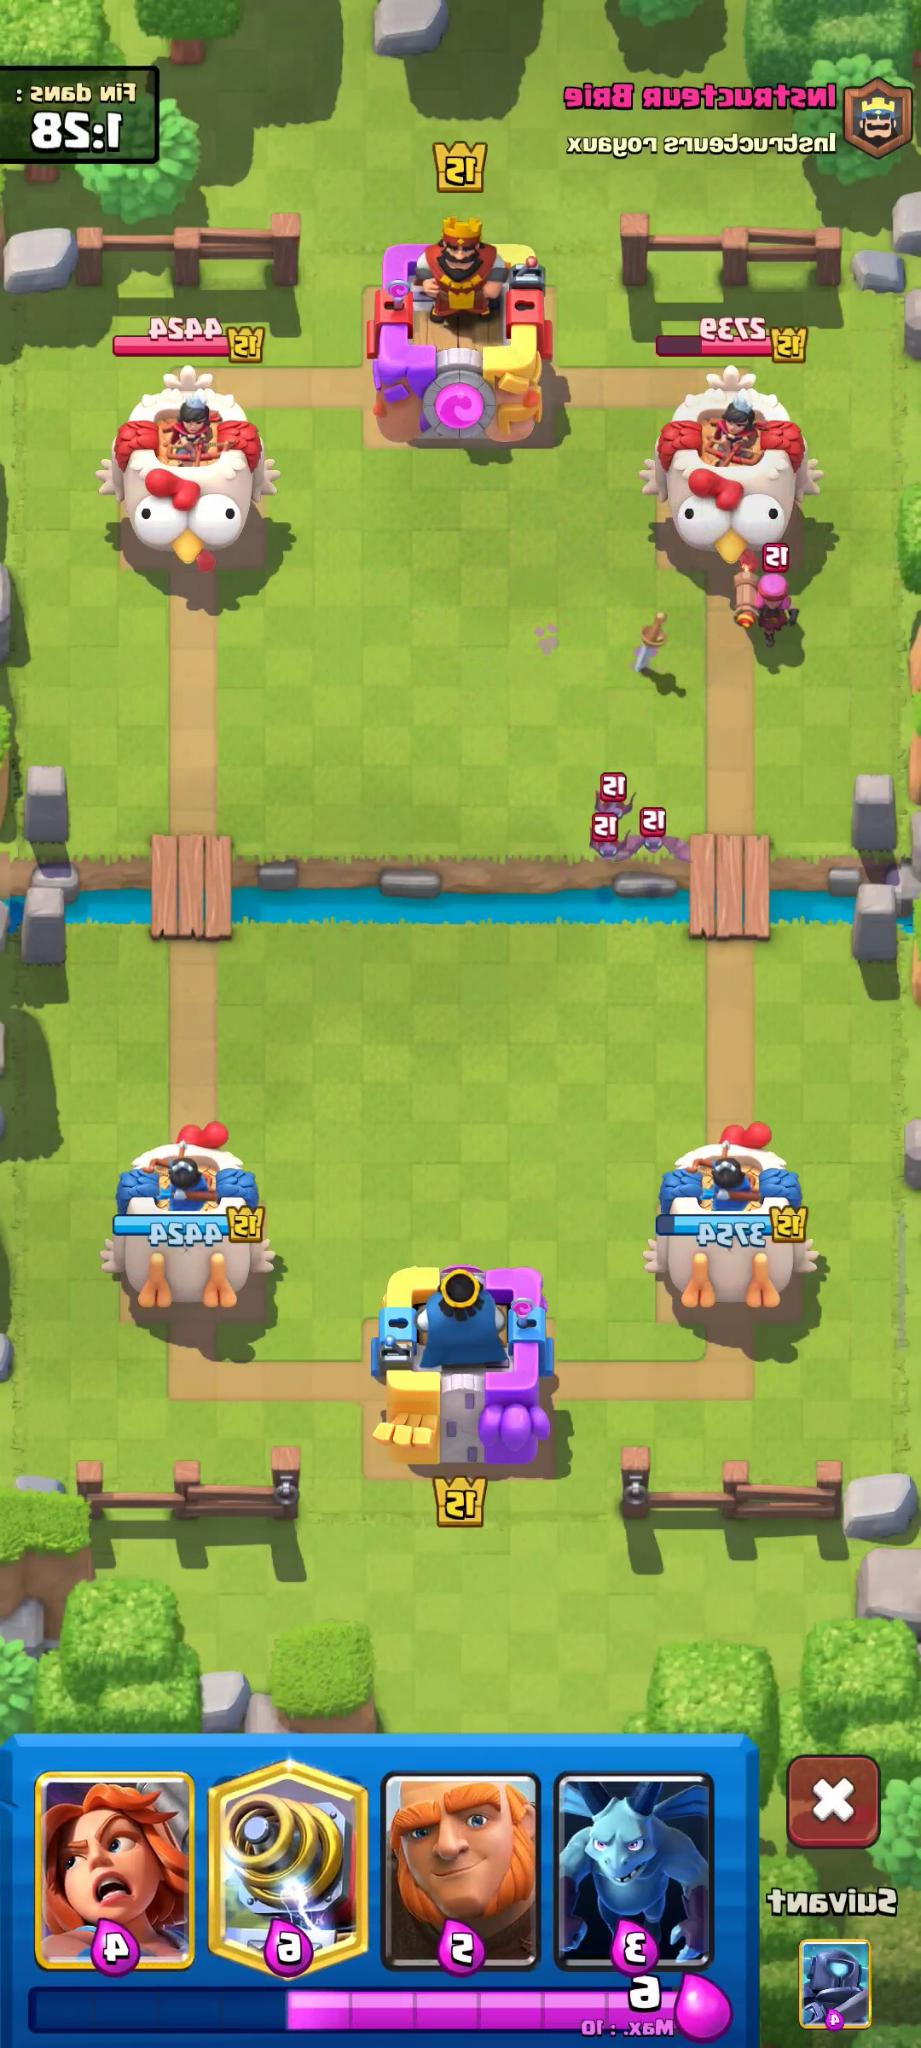bat: (580, 767, 649, 829), (580, 815, 644, 878), (622, 811, 690, 870)
